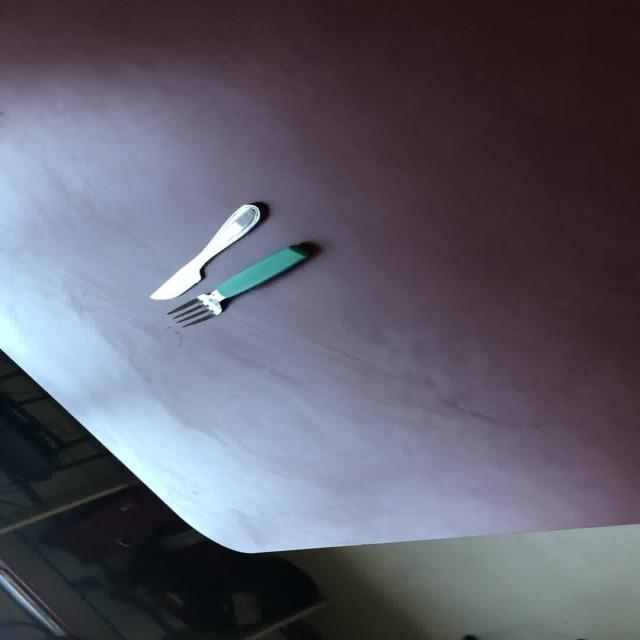fork: (165, 242, 311, 328)
knife fork: (165, 242, 311, 328), (147, 203, 260, 300)
